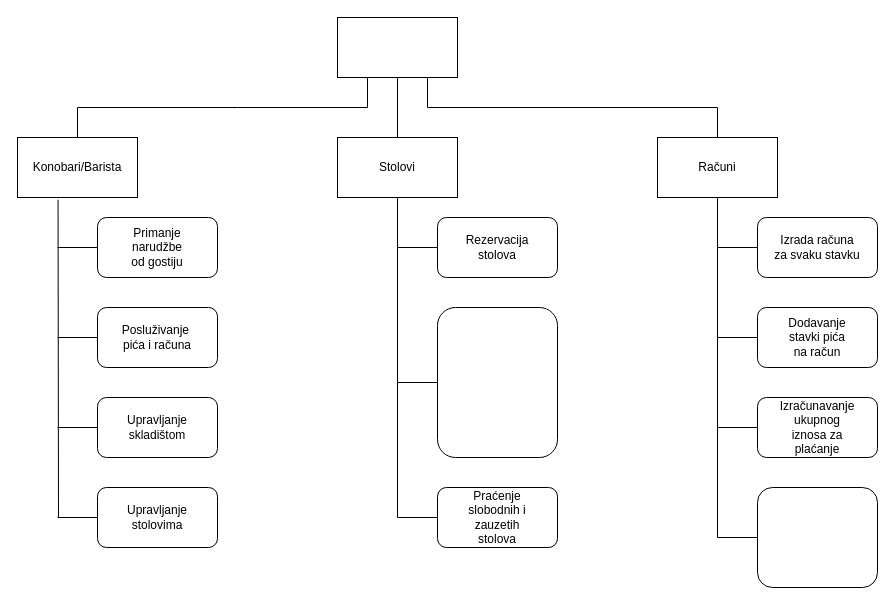
This 895x605 diagram has some shape labels left out. The centre of each missing label's shape, as x and y in pixels:
Dodjela stolova gostima na temelju rezervacije i dostupnosti: the point at 497,382
Kafić: the point at 397,47
Prihvaćanje plaćanja u gotovini ili kreditnoj kartici: the point at 817,537
